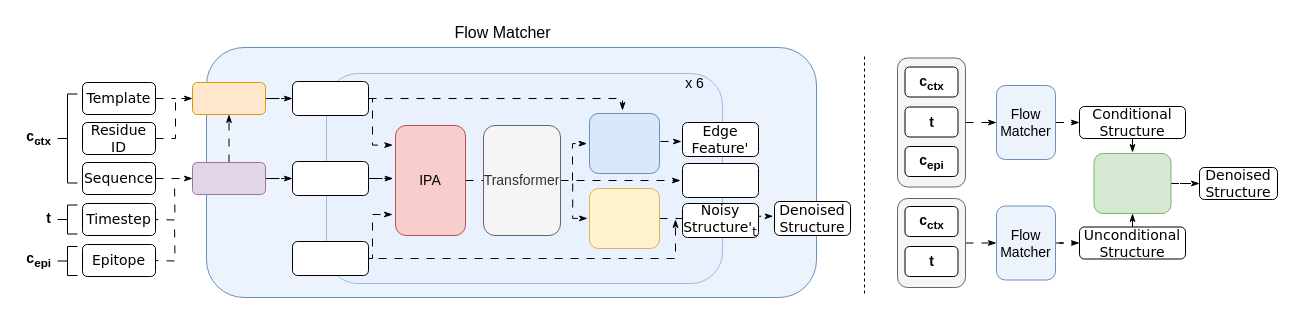
The diagram is 1295 pixels wide and 315 high, and some of its shapes have lost their labels. The shapes that lost their labels are listed below. From the top down, each one's centre as x and y in pixels, then its label:
the point at 229,98: Edge Embedder
the point at 330,98: Edge Feature
the point at 624,143: Edge Update
the point at 229,178: Node Embedder
the point at 330,178: Node Feature
the point at 720,180: Node Feature'
the point at 1132,183: Time Dependent CFG
the point at 624,218: Structure Update
the point at 330,258: Noisy Structure t
